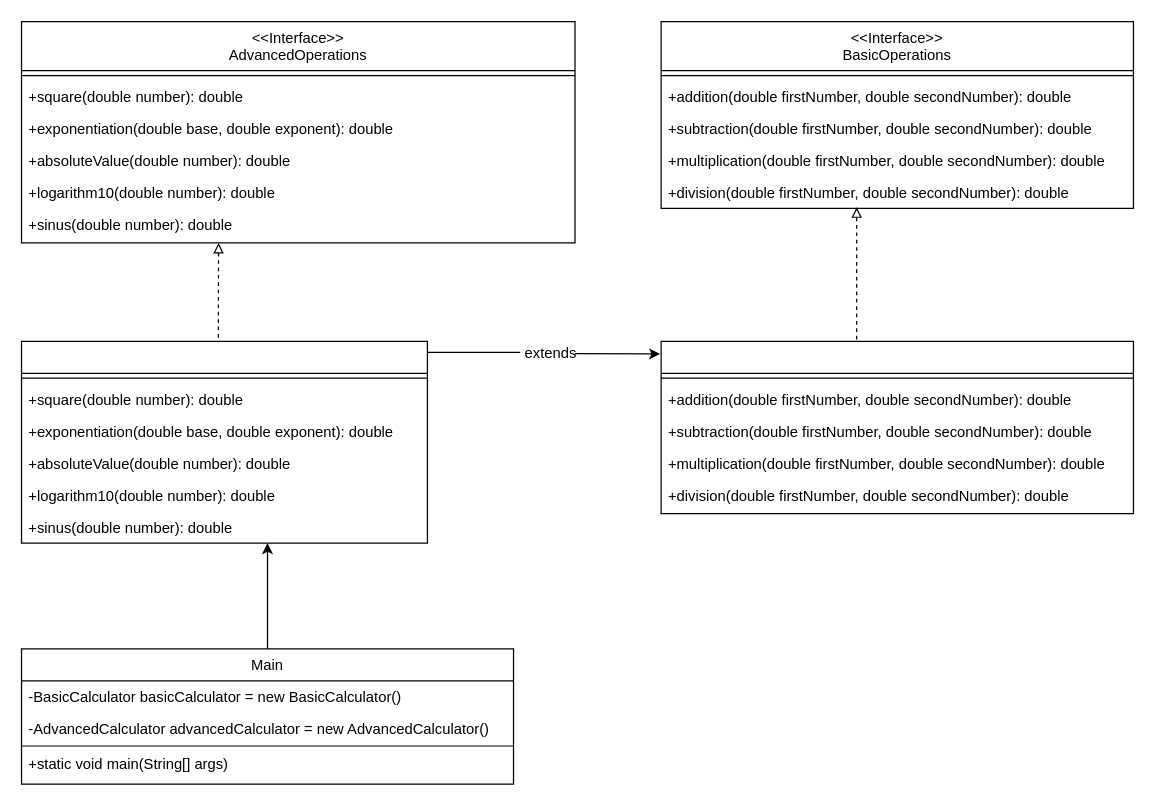
This 1155x806 diagram has some shape labels left out. The shapes that lost their labels are listed below. From the top down, each one's box as (x1, y1, x2, y2) in pixels, then its label:
(20, 340, 427, 543): AdvancedCalculator
(660, 340, 1133, 514): BasicCalculator
